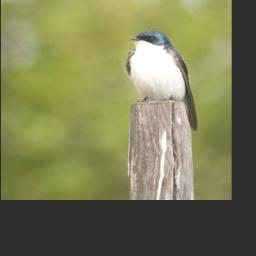Swallow: (123, 26, 198, 131)
